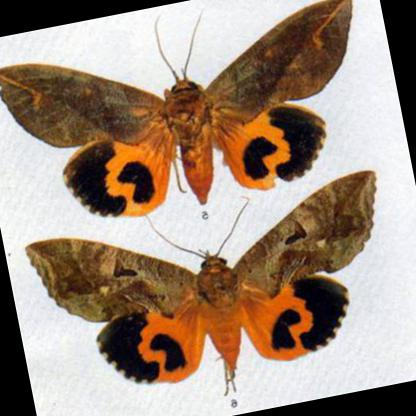fruit sucking moth: (23, 169, 379, 385), (0, 1, 353, 217)
